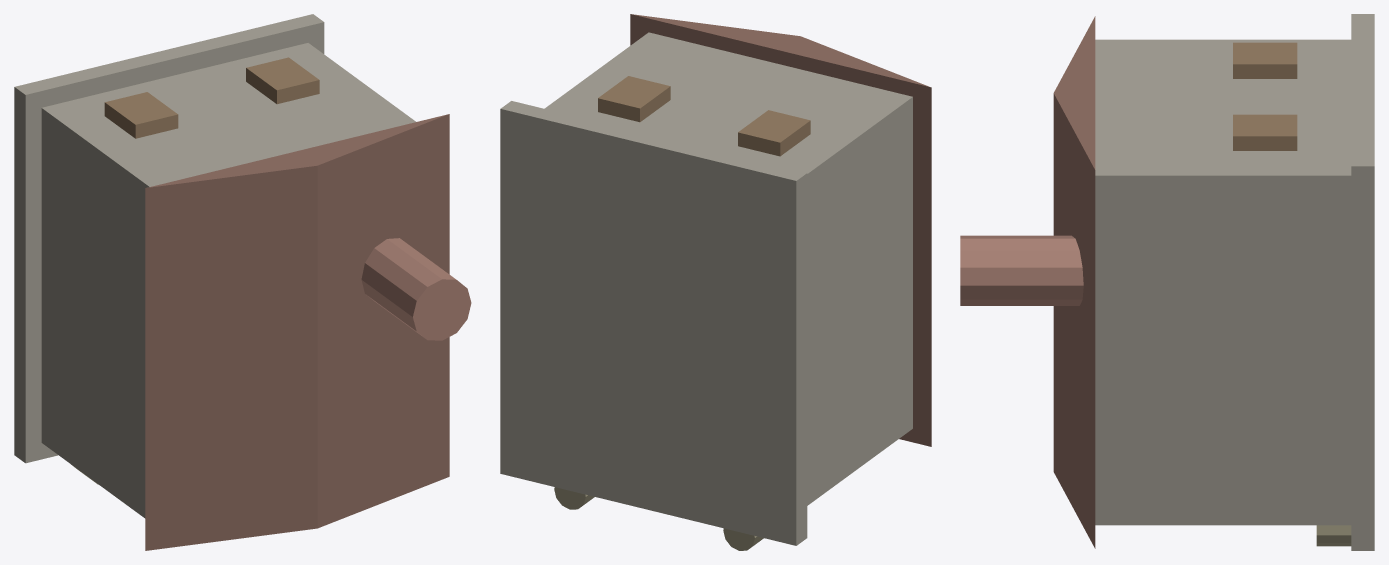
The model's file is AGE_III_industrial.glb.
3 views of the same model, side by side, from view 1: azimuth 30°, elevation 25°; view 2: azimuth 150°, elevation 25°; view 3: azimuth 270°, elevation 25° (orthographic). The views are drawn at different scales.
Visible parts, largest first — view 1: world; view 2: world; view 3: world.
Part boxes in pixels (x1,y1,x2,y2): world: (14, 14, 471, 550); world: (500, 14, 931, 550); world: (960, 14, 1374, 550).
Size of the model in its own units: 5.7 by 7.05 by 6.44.
